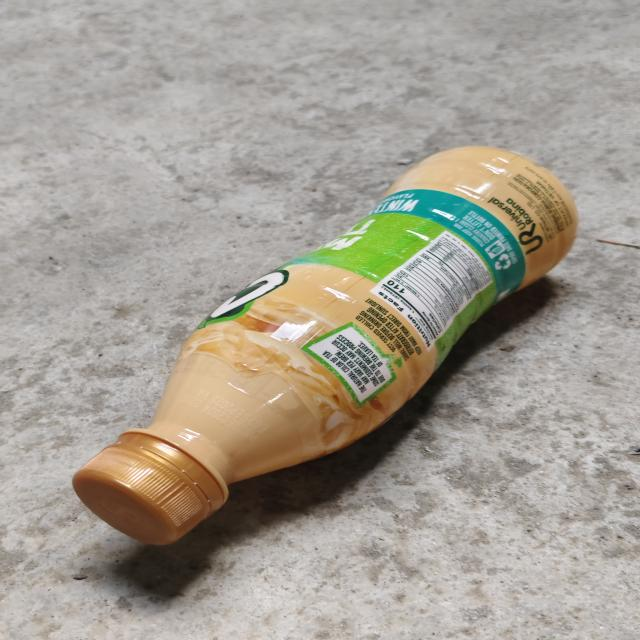Bottle: (73, 147, 578, 544)
